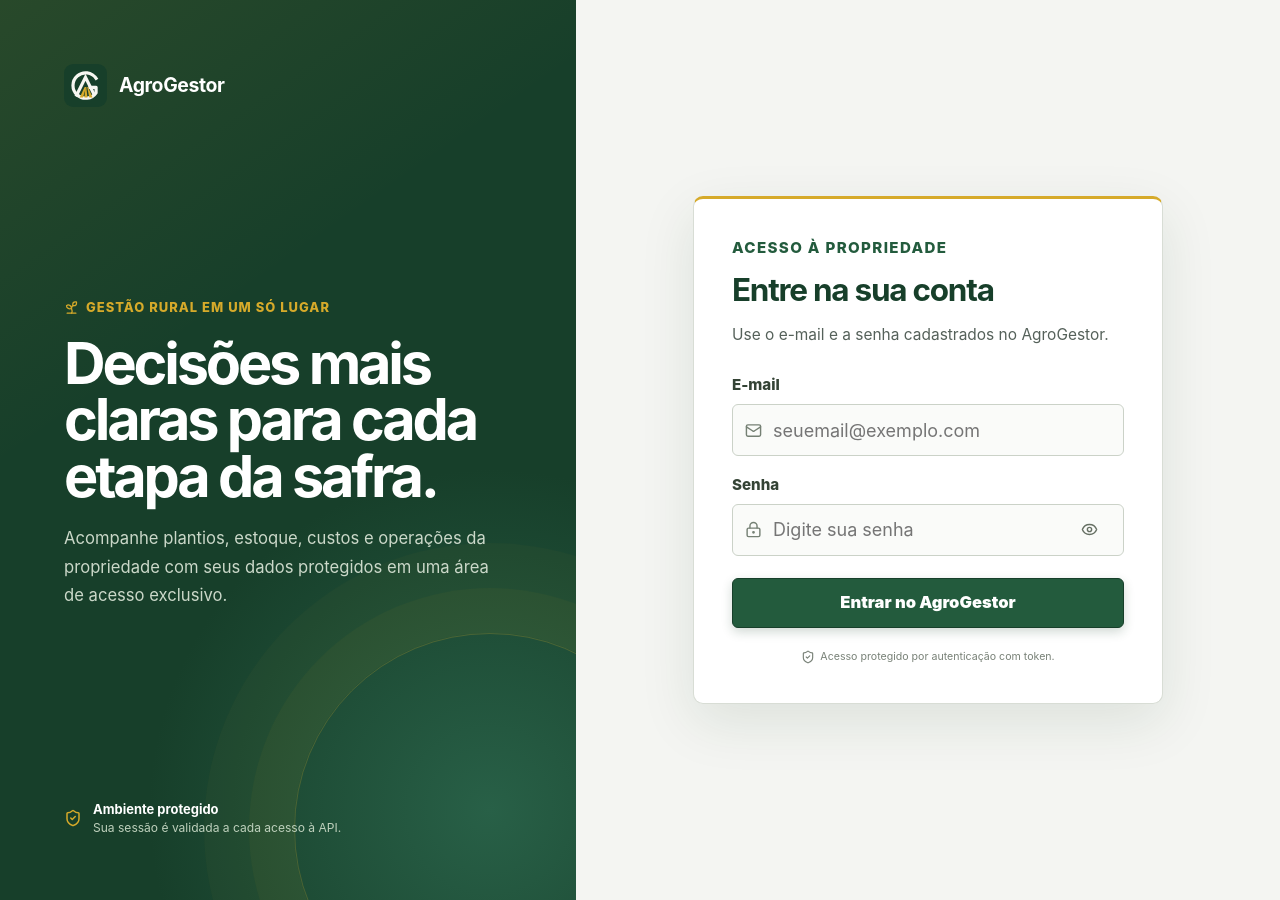
Scenario: LoginPage › mostra o erro devolvido pela autenticação
Type "admin@agrogestor.local" into the field labelled "E-mail" at point(941, 430), box [771,405,1111,455]
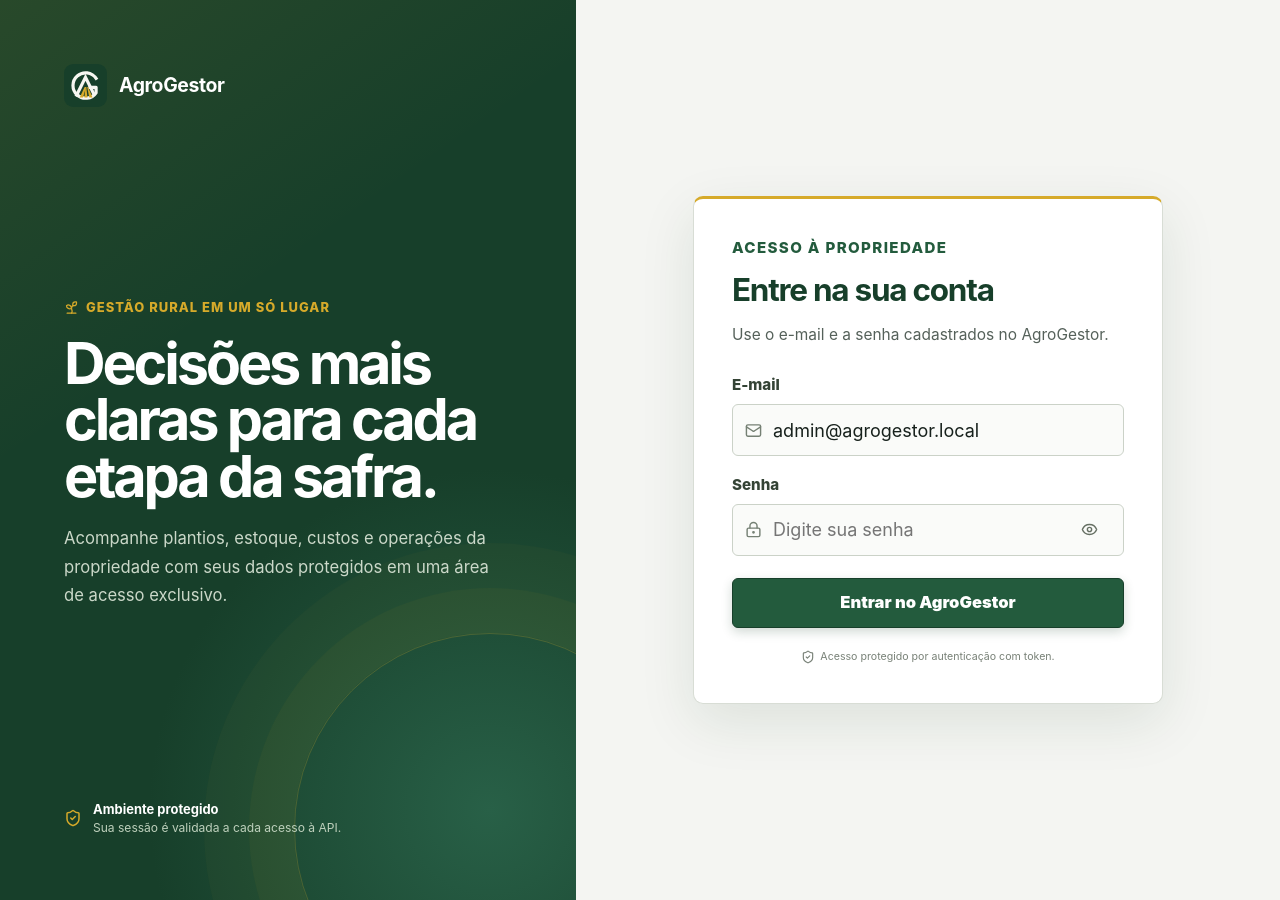
Type "senha-incorreta" into the password field labelled "Senha" at point(914, 530), box [771,505,1058,555]
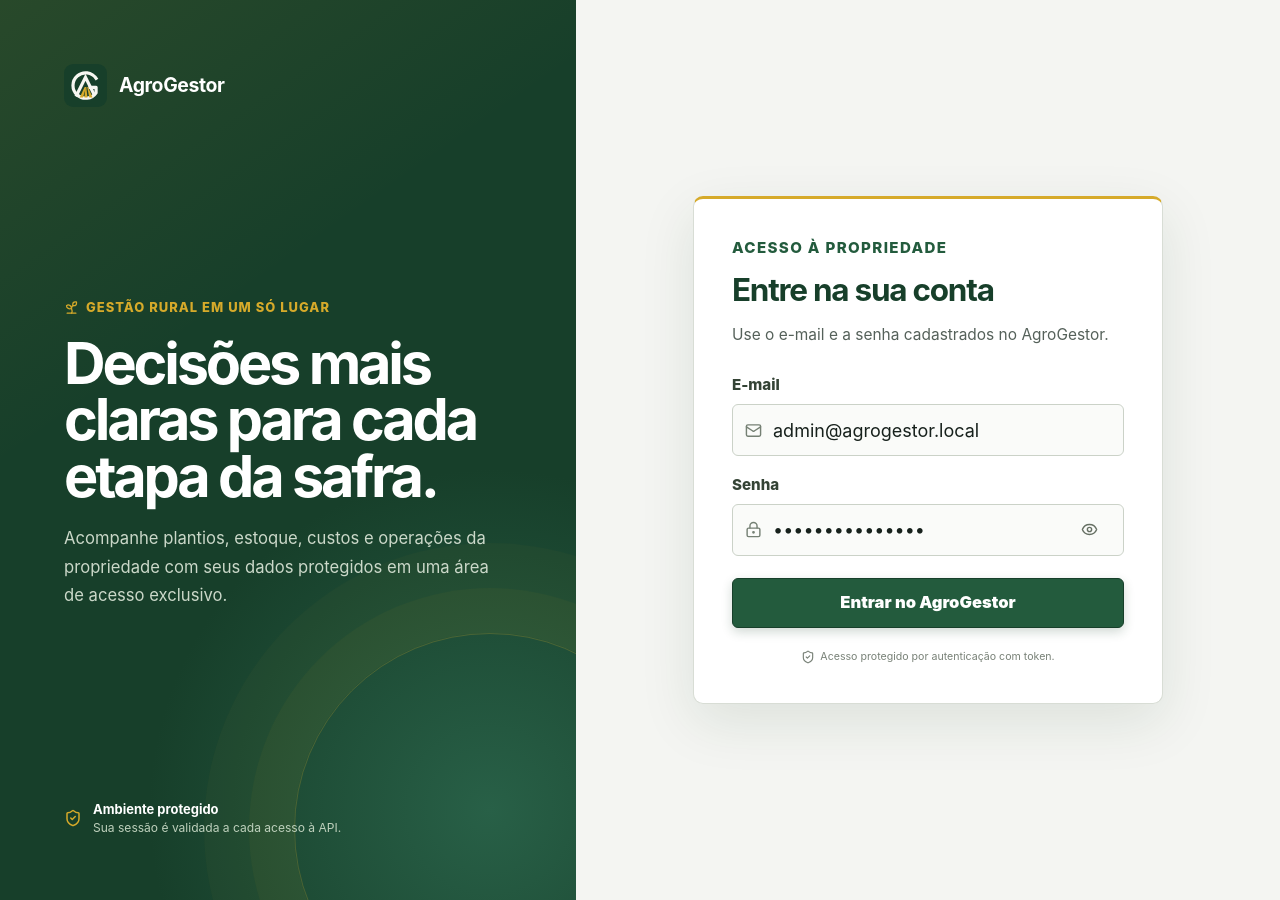
Click the button "Entrar no AgroGestor" at point(928, 603), box [732,578,1124,628]
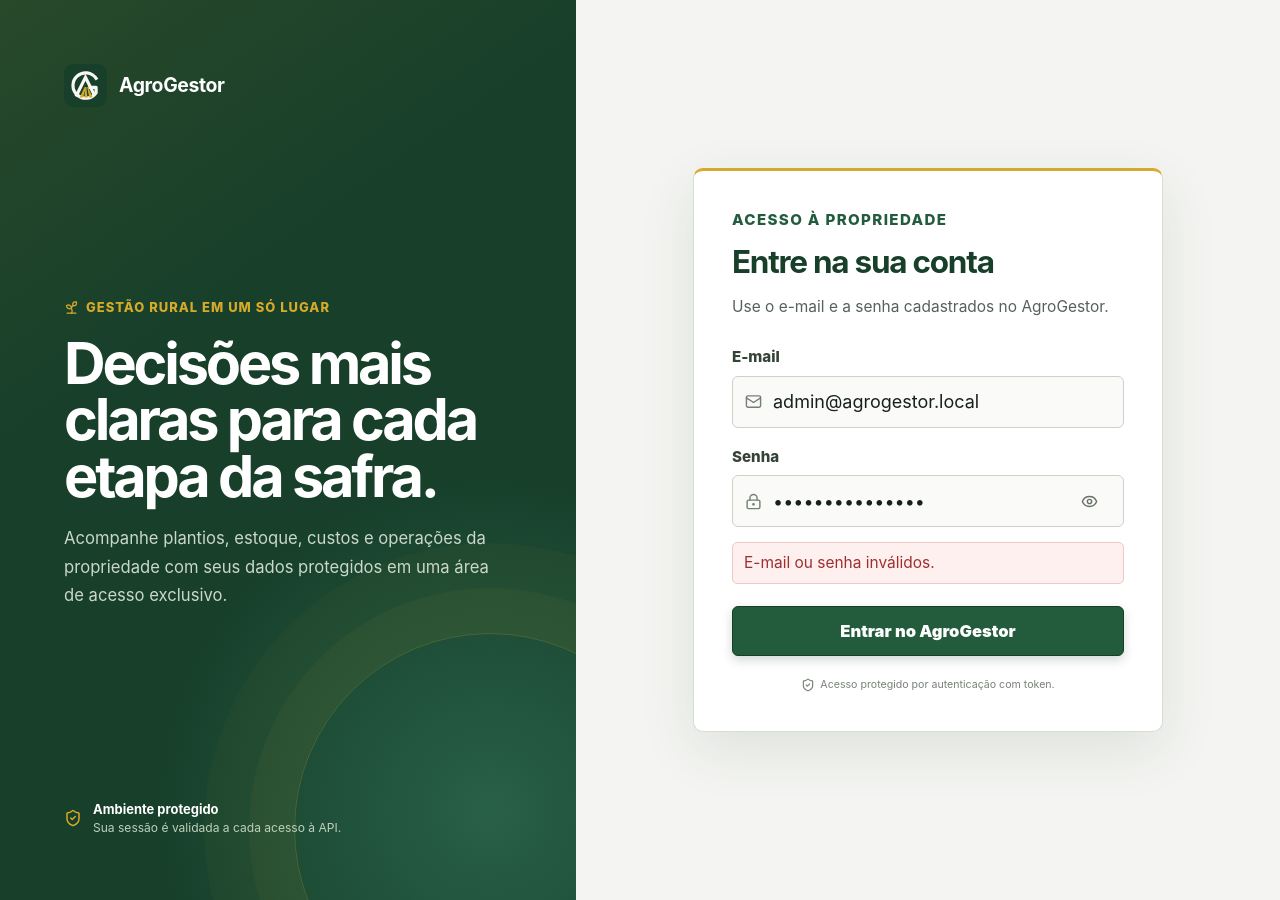
expect the message reads "E-mail ou senha inválidos.": met, box [744,553,935,572]
